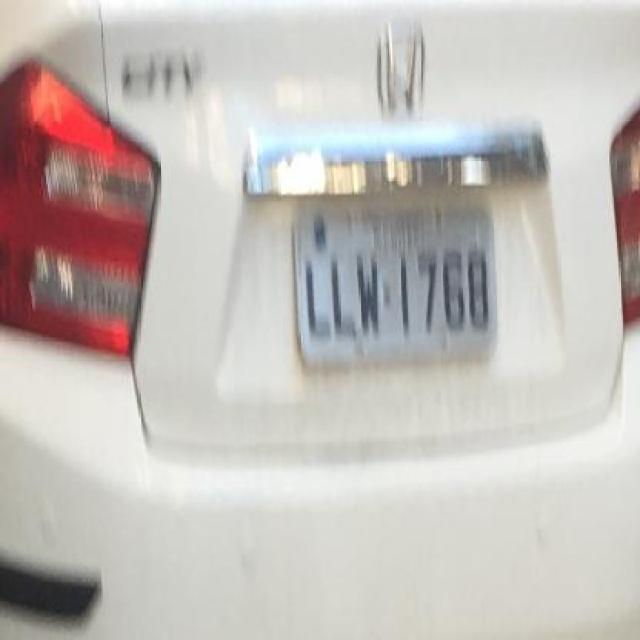old_plate: (287, 188, 503, 374)
